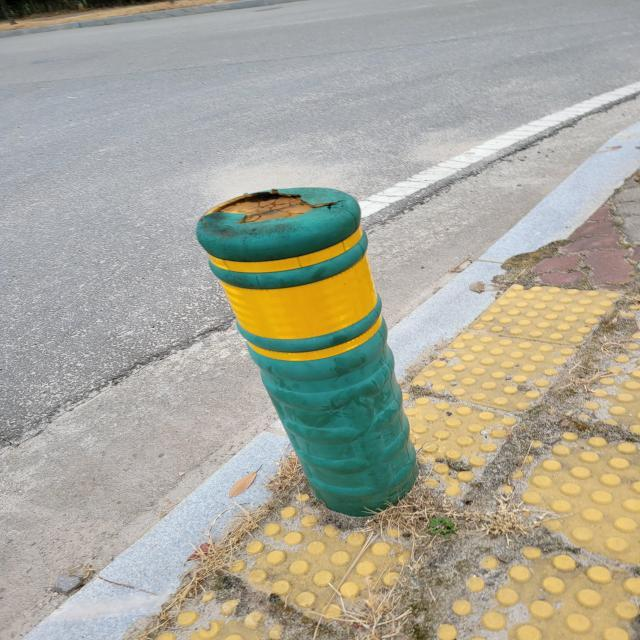pole: (195, 181, 426, 519)
